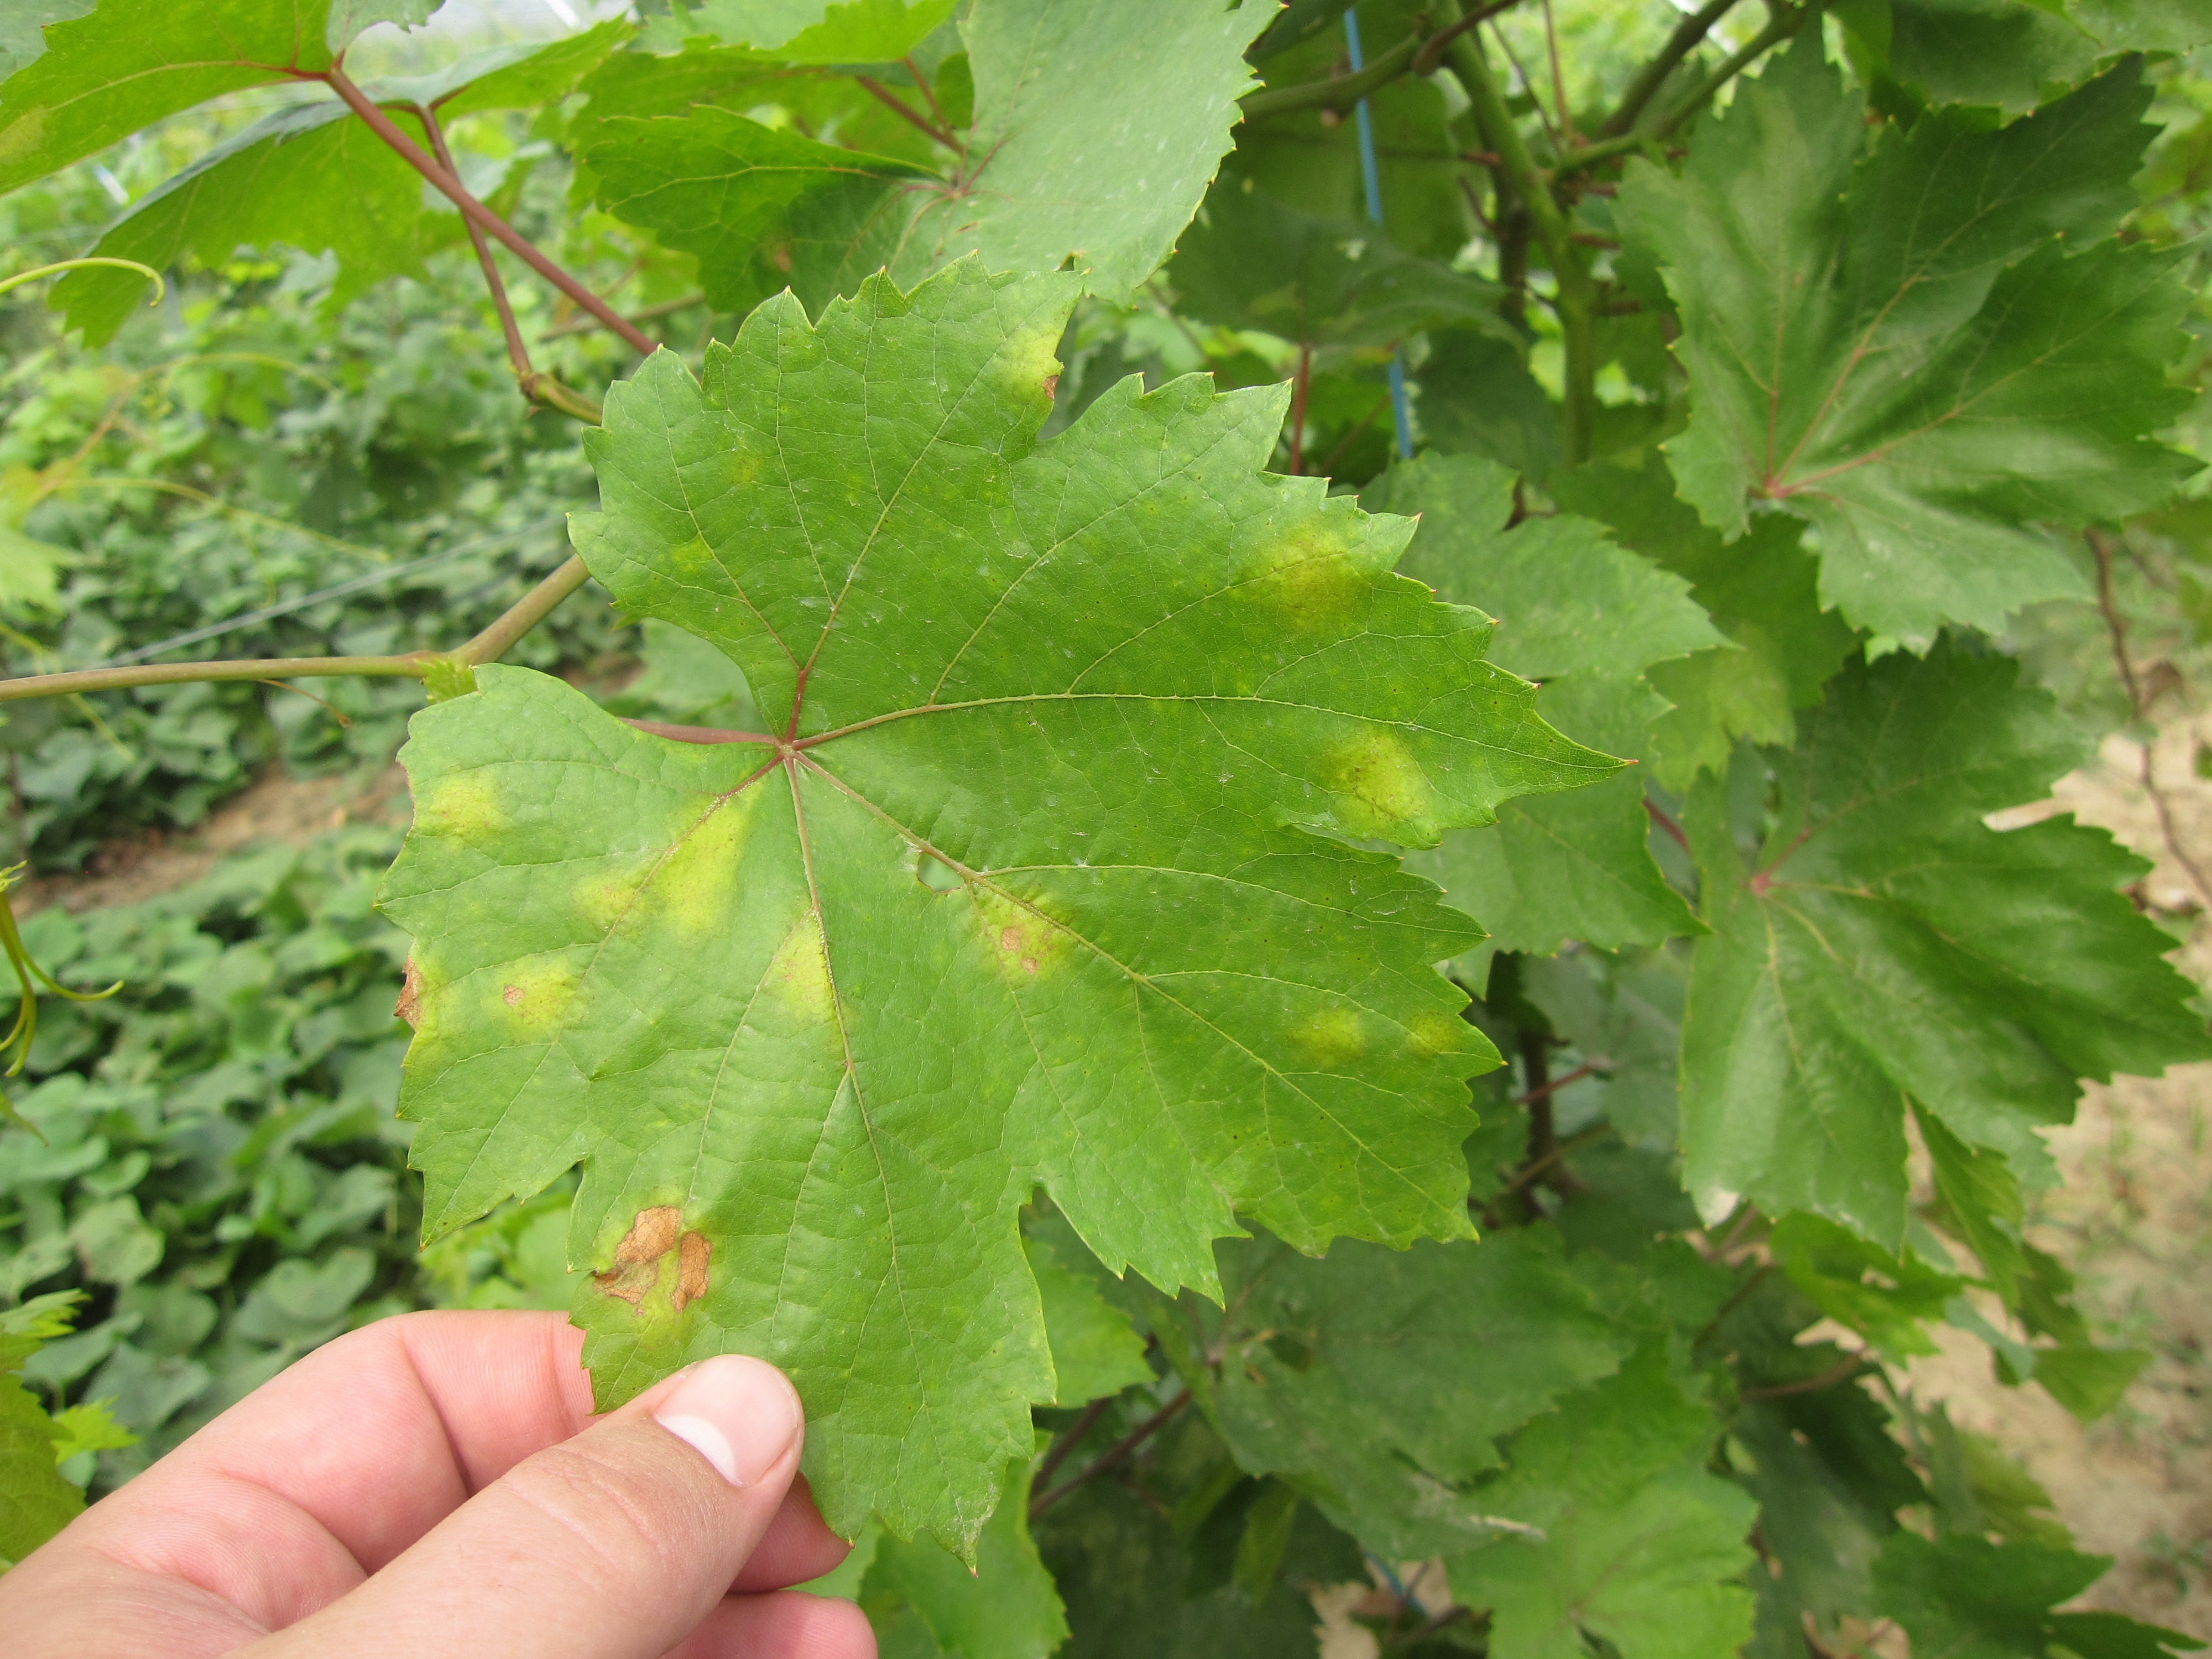downy: (416, 762, 848, 1089), (913, 842, 1116, 1011), (583, 1176, 740, 1337), (1216, 516, 1409, 640), (1278, 967, 1468, 1093), (1291, 718, 1437, 850), (982, 303, 1087, 418)
